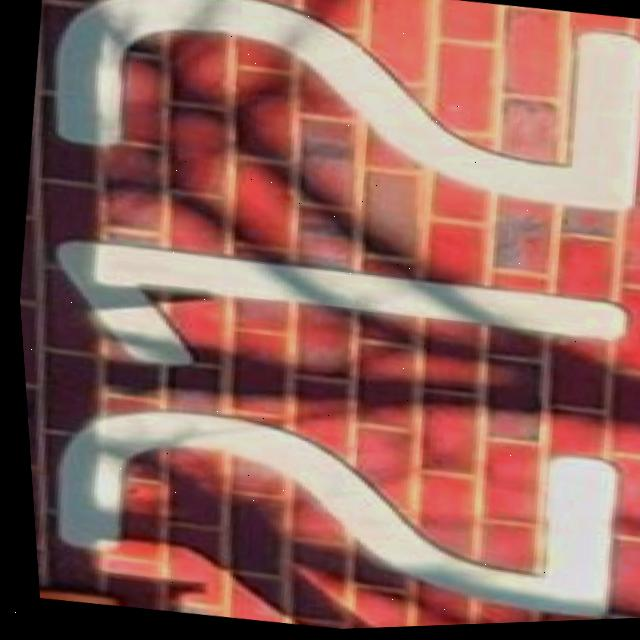character: (32, 369, 640, 640), (31, 0, 640, 242), (31, 208, 640, 436)
